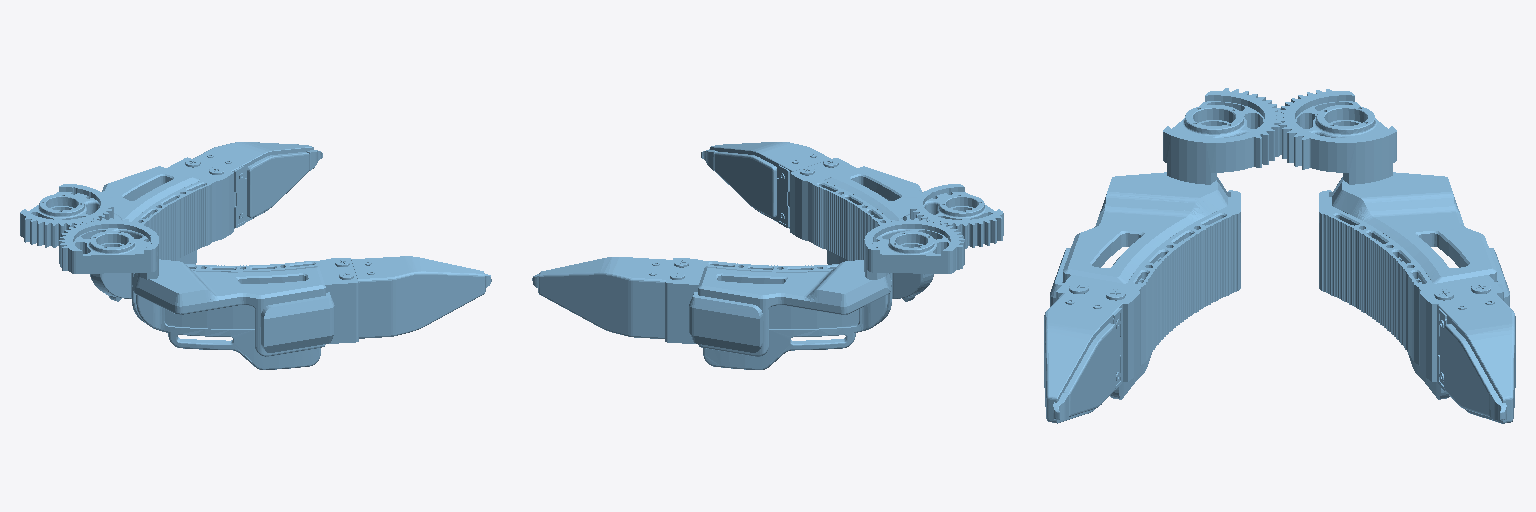
robot.urdf — umi_follower:
<?xml version="1.0" encoding="utf-8"?>
<!-- This URDF was automatically created by SolidWorks to URDF Exporter! Originally created by Stephen Brawner (brawner@gmail.com) 
     Commit Version: 1.6.0-4-g7f85cfe  Build Version: 1.6.7995.38578
     For more information, please see http://wiki.ros.org/sw_urdf_exporter -->
<robot
  name="umi_follower">
  <link
    name="base_link">
    <inertial>
      <origin
        xyz="0.15776 -8.6164E-06 0.039942"
        rpy="0 0 0" />
      <mass
        value="0.565" />
      <inertia
        ixx="4.3847"
        ixy="-1.6884E-06"
        ixz="-0.00064185"
        iyy="1.5833"
        iyz="-1.1581E-06"
        izz="2.8796" />
    </inertial>
    <visual>
      <origin
        xyz="0 0 0"
        rpy="0 0 0" />
      <geometry>
        <mesh
          filename="meshes/base_link.STL" />
      </geometry>
      <material
        name="">
        <color
          rgba="0.109804 0.286275 0.0117647 1" />
      </material>
    </visual>
    <collision>
      <origin
        xyz="0 0 0"
        rpy="0 0 0" />
      <geometry>
        <mesh
          filename="meshes/base_link.STL" />
      </geometry>
    </collision>
  </link>
  <link
    name="Link1">
    <inertial>
      <origin
        xyz="0.042967 0.016003 -0.0055475"
        rpy="0 0 0" />
      <mass
        value="0.08" />
      <inertia
        ixx="1.8239E-05"
        ixy="-1.0847E-05"
        ixz="2.5441E-06"
        iyy="3.2414E-05"
        iyz="5.8382E-07"
        izz="3.9124E-05" />
    </inertial>
    <visual>
      <origin
        xyz="0 0 0"
        rpy="0 0 0" />
      <geometry>
        <mesh
          filename="meshes/Link1.STL" />
      </geometry>
      <material
        name="">
        <color
          rgba="0.596078 0.788235 0.921569 1" />
      </material>
    </visual>
    <collision>
      <origin
        xyz="0 0 0"
        rpy="0 0 0" />
      <geometry>
        <mesh
          filename="meshes/Link1.STL" />
      </geometry>
    </collision>
  </link>
  <joint
    name="joint1"
    type="revolute">
    <origin
      xyz="0.01 0.01995 -0.004"
      rpy="0 0 0" />
    <parent
      link="base_link" />
    <child
      link="Link1" />
    <axis
      xyz="0 0 1" />
    <limit
      lower="-0.5"
      upper="0"
      effort="1"
      velocity="1" />
  </joint>
  <link
    name="Link2">
    <inertial>
      <origin
        xyz="0.040377 -0.015288 -0.0050336"
        rpy="0 0 0" />
      <mass
        value="0.08" />
      <inertia
        ixx="1.7524E-05"
        ixy="1.0934E-05"
        ixz="2.5528E-06"
        iyy="3.2078E-05"
        iyz="-5.8629E-07"
        izz="3.8889E-05" />
    </inertial>
    <visual>
      <origin
        xyz="0 0 0"
        rpy="0 0 0" />
      <geometry>
        <mesh
          filename="meshes/Link2.STL" />
      </geometry>
      <material
        name="">
        <color
          rgba="0.596078 0.788235 0.921569 1" />
      </material>
    </visual>
    <collision>
      <origin
        xyz="0 0 0"
        rpy="0 0 0" />
      <geometry>
        <mesh
          filename="meshes/Link2.STL" />
      </geometry>
    </collision>
  </link>
  <joint
    name="joint2"
    type="revolute">
    <origin
      xyz="0.01 -0.01995 -0.004"
      rpy="0 0 0" />
    <parent
      link="base_link" />
    <child
      link="Link2" />
    <axis
      xyz="0 0 -1" />
    <limit
      lower="-0.5"
      upper="0"
      effort="1"
      velocity="1" />
    <mimic
      joint="joint1"
      multiplier="1"
      offset="0" />
  </joint>
</robot>

--- Facts derived from the render (not from the file) ---
3 views of the same robot in one strip: view 1: azimuth 30°, elevation 25°; view 2: azimuth 150°, elevation 25°; view 3: azimuth 270°, elevation 25° (orthographic).
Model umi_follower with 3 links and 2 joints (2 revolute), rooted at base_link, posed all joints at 0.
Links seen in each view (by area): view 1: Link2, Link1; view 2: Link1, Link2; view 3: Link1, Link2.
Link boxes in pixels (left/top/right/bottom): Link2: left=59, top=218, right=491, bottom=369; Link1: left=20, top=142, right=322, bottom=301; Link1: left=532, top=218, right=964, bottom=369; Link2: left=701, top=142, right=1003, bottom=301; Link1: left=1277, top=89, right=1515, bottom=423; Link2: left=1044, top=88, right=1282, bottom=423.
Size in the robot's own frame: 0.167 by 0.1428 by 0.06 metres.
Meshes: 3 distinct files referenced, 2 mesh visuals loaded (2 binary STL); not drawn: 1 (reference not matched to a file when rendering).
